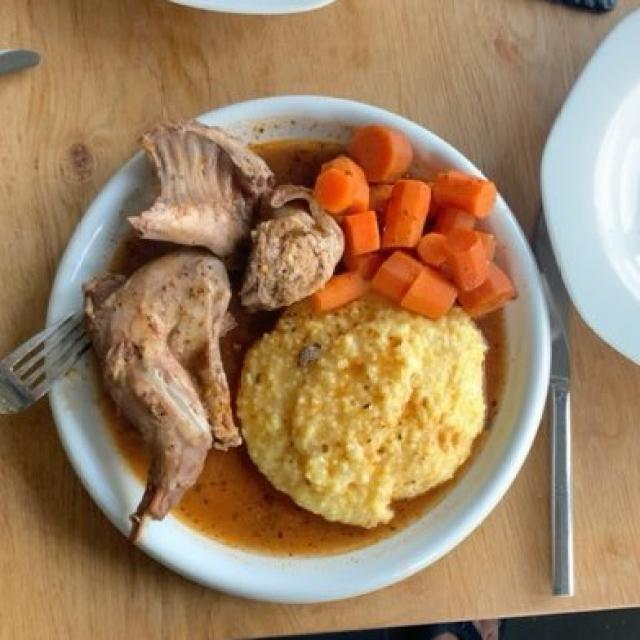carrot: (295, 113, 506, 318)
polenta: (239, 294, 494, 537)
sauce: (82, 134, 513, 559)
